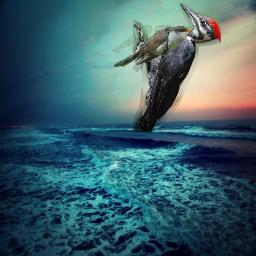Cuckoo: (112, 25, 192, 67)
Woodpecker: (133, 3, 221, 132)
